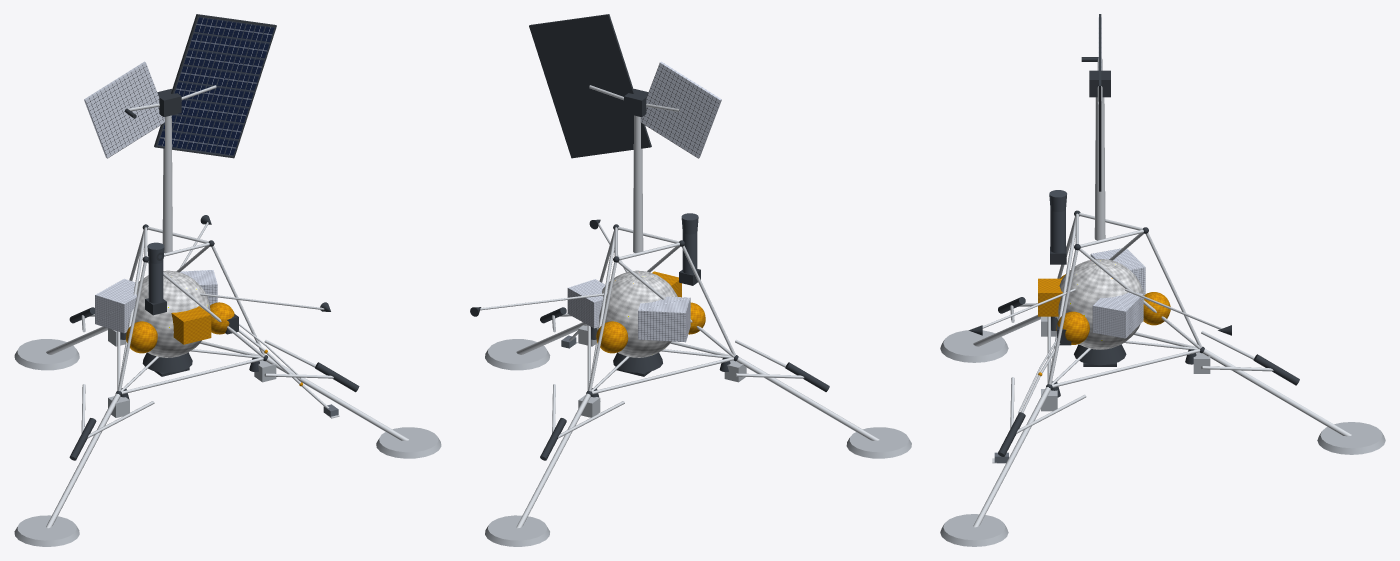
Rendered from surveyor_3.glb.
3 renders of one model, left to right at view 1: azimuth 30°, elevation 25°; view 2: azimuth 150°, elevation 25°; view 3: azimuth 270°, elevation 25°, orthographic. The views are drawn at different scales.
Parts seen in each view (by area): view 1: Planar_Solar_Array, Propulsion_Assembly, High_Gain_Antenna, Spaceframe_Assembly, Landing_Leg_3, Landing_Leg_2, Thermal_Electronics_Compartments, Mast_Solar_Antenna_Assembly, Landing_Leg_1, Surveyor3_Television_Camera, Soil_Mechanics_Surface_Sampler; view 2: Planar_Solar_Array, Propulsion_Assembly, High_Gain_Antenna, Spaceframe_Assembly, Thermal_Electronics_Compartments, Landing_Leg_3, Landing_Leg_1, Mast_Solar_Antenna_Assembly, Landing_Leg_2, Surveyor3_Television_Camera; view 3: Propulsion_Assembly, Spaceframe_Assembly, Landing_Leg_1, Landing_Leg_2, Thermal_Electronics_Compartments, Mast_Solar_Antenna_Assembly, Landing_Leg_3, Surveyor3_Television_Camera, Soil_Mechanics_Surface_Sampler, Planar_Solar_Array.
Boxes of the visible parts, x1,y1,x2,y2 form: Planar_Solar_Array: [154, 14, 276, 158]; Propulsion_Assembly: [120, 270, 259, 399]; High_Gain_Antenna: [84, 61, 164, 158]; Spaceframe_Assembly: [115, 224, 267, 396]; Landing_Leg_3: [14, 384, 154, 546]; Landing_Leg_2: [254, 340, 441, 458]; Thermal_Electronics_Compartments: [95, 270, 217, 344]; Mast_Solar_Antenna_Assembly: [128, 85, 330, 311]; Landing_Leg_1: [14, 307, 125, 370]; Surveyor3_Television_Camera: [145, 242, 166, 315]; Soil_Mechanics_Surface_Sampler: [225, 314, 329, 408]; Planar_Solar_Array: [529, 14, 651, 158]; Propulsion_Assembly: [591, 270, 730, 397]; High_Gain_Antenna: [640, 61, 721, 158]; Spaceframe_Assembly: [586, 224, 738, 395]; Thermal_Electronics_Compartments: [567, 271, 690, 342]; Landing_Leg_3: [724, 339, 911, 458]; Landing_Leg_1: [485, 384, 624, 546]; Mast_Solar_Antenna_Assembly: [470, 85, 679, 316]; Landing_Leg_2: [485, 307, 596, 370]; Surveyor3_Television_Camera: [679, 213, 700, 285]; Propulsion_Assembly: [1051, 259, 1196, 397]; Spaceframe_Assembly: [1046, 210, 1204, 389]; Landing_Leg_1: [1193, 331, 1385, 454]; Landing_Leg_2: [940, 377, 1086, 546]; Thermal_Electronics_Compartments: [1038, 248, 1145, 338]; Mast_Solar_Antenna_Assembly: [968, 58, 1231, 335]; Landing_Leg_3: [940, 297, 1056, 362]; Surveyor3_Television_Camera: [1049, 190, 1066, 264]; Soil_Mechanics_Surface_Sampler: [1018, 324, 1071, 412]; Planar_Solar_Array: [1099, 14, 1101, 191].
Bounding box in the file's own units: 4.21 × 4.07 × 3.72.
10 materials, 4 textured.
